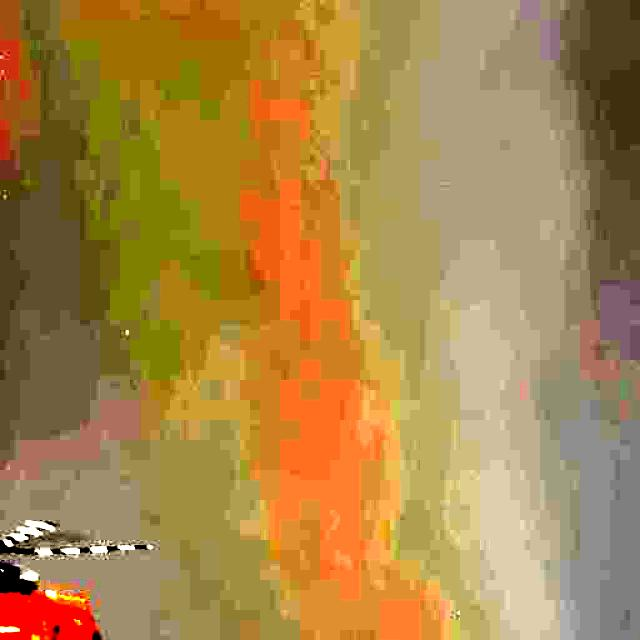drone: (0, 484, 135, 640)
